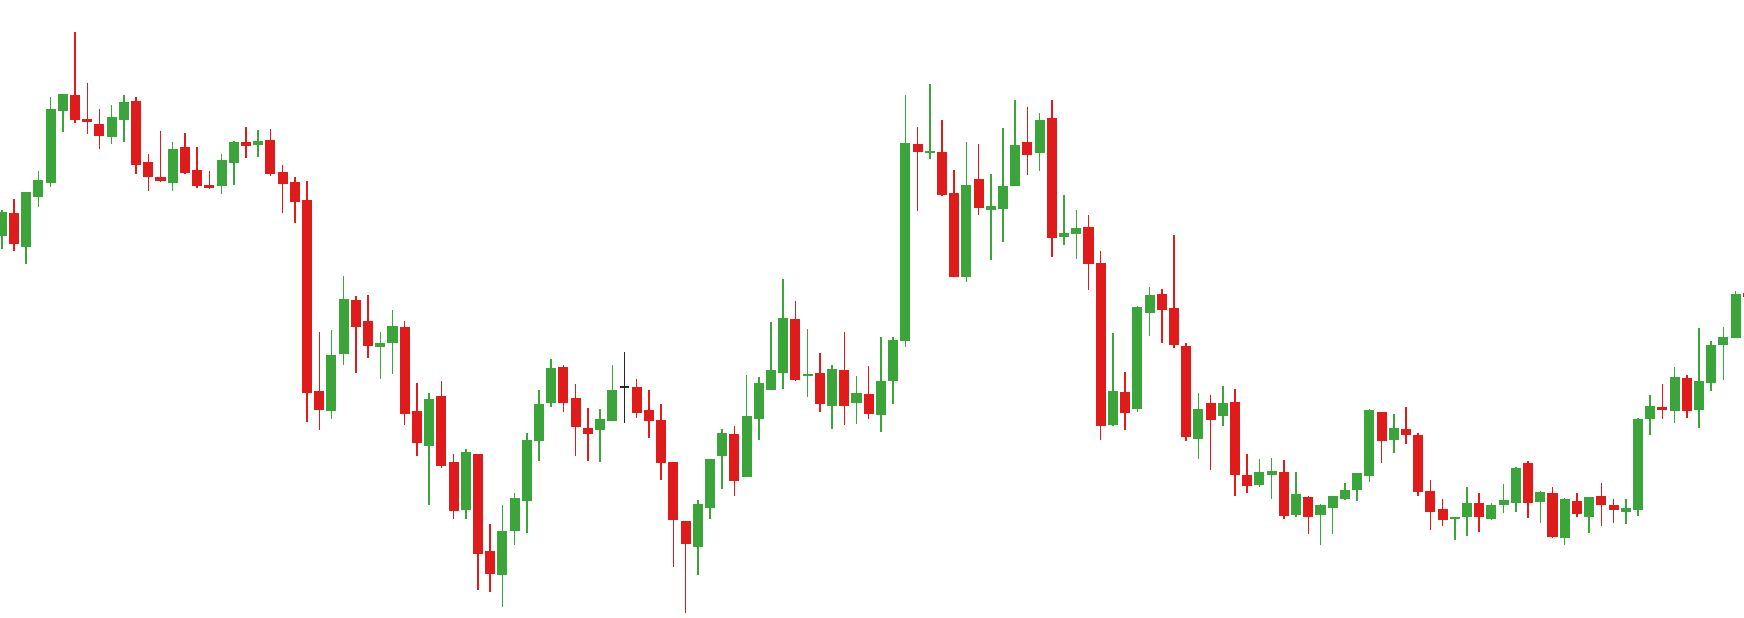buy: (498, 430, 693, 614)
sell: (937, 102, 1034, 237)
